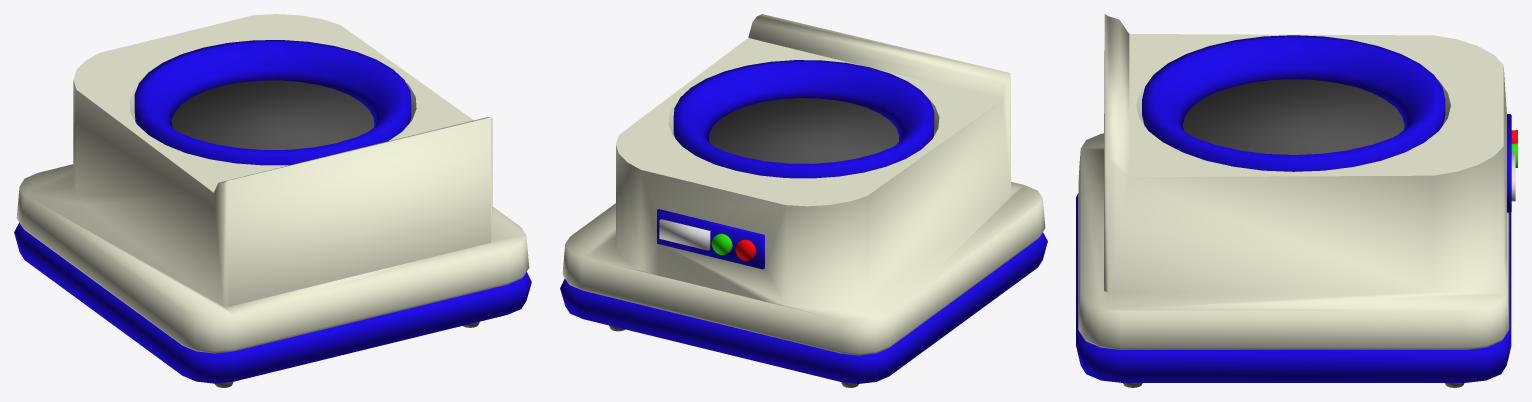
File: Desbastadora_LP.fbx
3 views of the same model, side by side, from view 1: azimuth 30°, elevation 25°; view 2: azimuth 150°, elevation 25°; view 3: azimuth 270°, elevation 25° (orthographic). The views are drawn at different scales.
Visible parts, largest first — view 1: Body_LP, CubreLija_LP, Base_LP, Rotor_LP; view 2: Body_LP, CubreLija_LP, Base_LP, Rotor_LP, Caratula_LP, Display_LP; view 3: Body_LP, CubreLija_LP, Base_LP, Rotor_LP, Caratula_LP.
Part boxes in pixels (x1,y1,x2,y2): Body_LP: (16, 14, 529, 353); CubreLija_LP: (134, 40, 411, 165); Base_LP: (14, 222, 531, 383); Rotor_LP: (171, 80, 374, 149); Body_LP: (562, 14, 1045, 355); CubreLija_LP: (673, 60, 934, 178); Base_LP: (560, 232, 1047, 383); Rotor_LP: (709, 98, 898, 163); Caratula_LP: (657, 209, 764, 269); Display_LP: (659, 219, 710, 250); Body_LP: (1078, 14, 1509, 349); CubreLija_LP: (1142, 35, 1445, 171); Base_LP: (1076, 193, 1511, 382); Rotor_LP: (1182, 79, 1404, 154); Caratula_LP: (1507, 114, 1511, 212).
Size of the model in its own units: 1022 by 607 by 1037.
